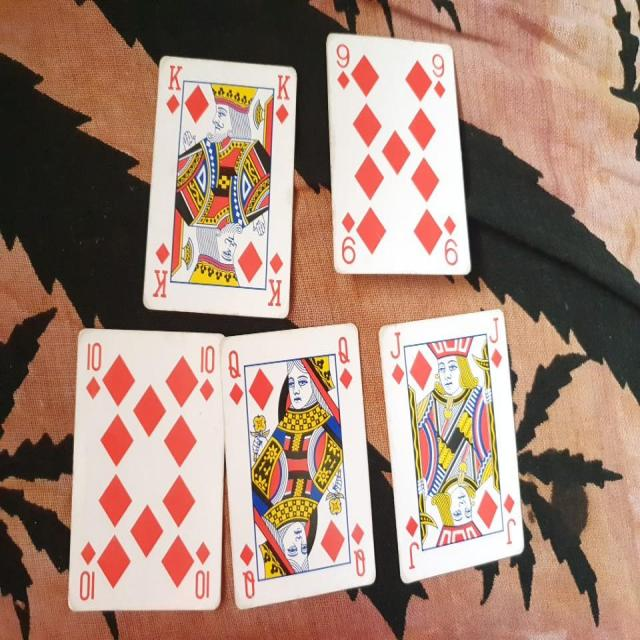10 Diamonds: (67, 324, 226, 612)
9 Diamonds: (324, 28, 473, 274)
J Diamonds: (377, 306, 525, 583)
K Diamonds: (141, 52, 299, 319)
Q Diamonds: (220, 317, 377, 610)
